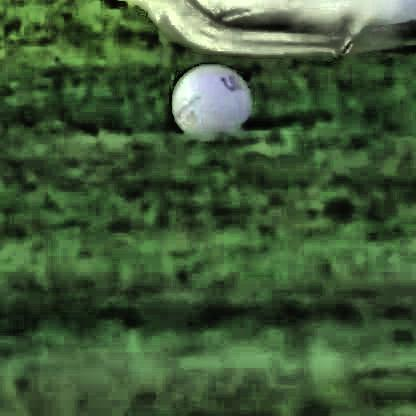golfball: (166, 61, 248, 138)
